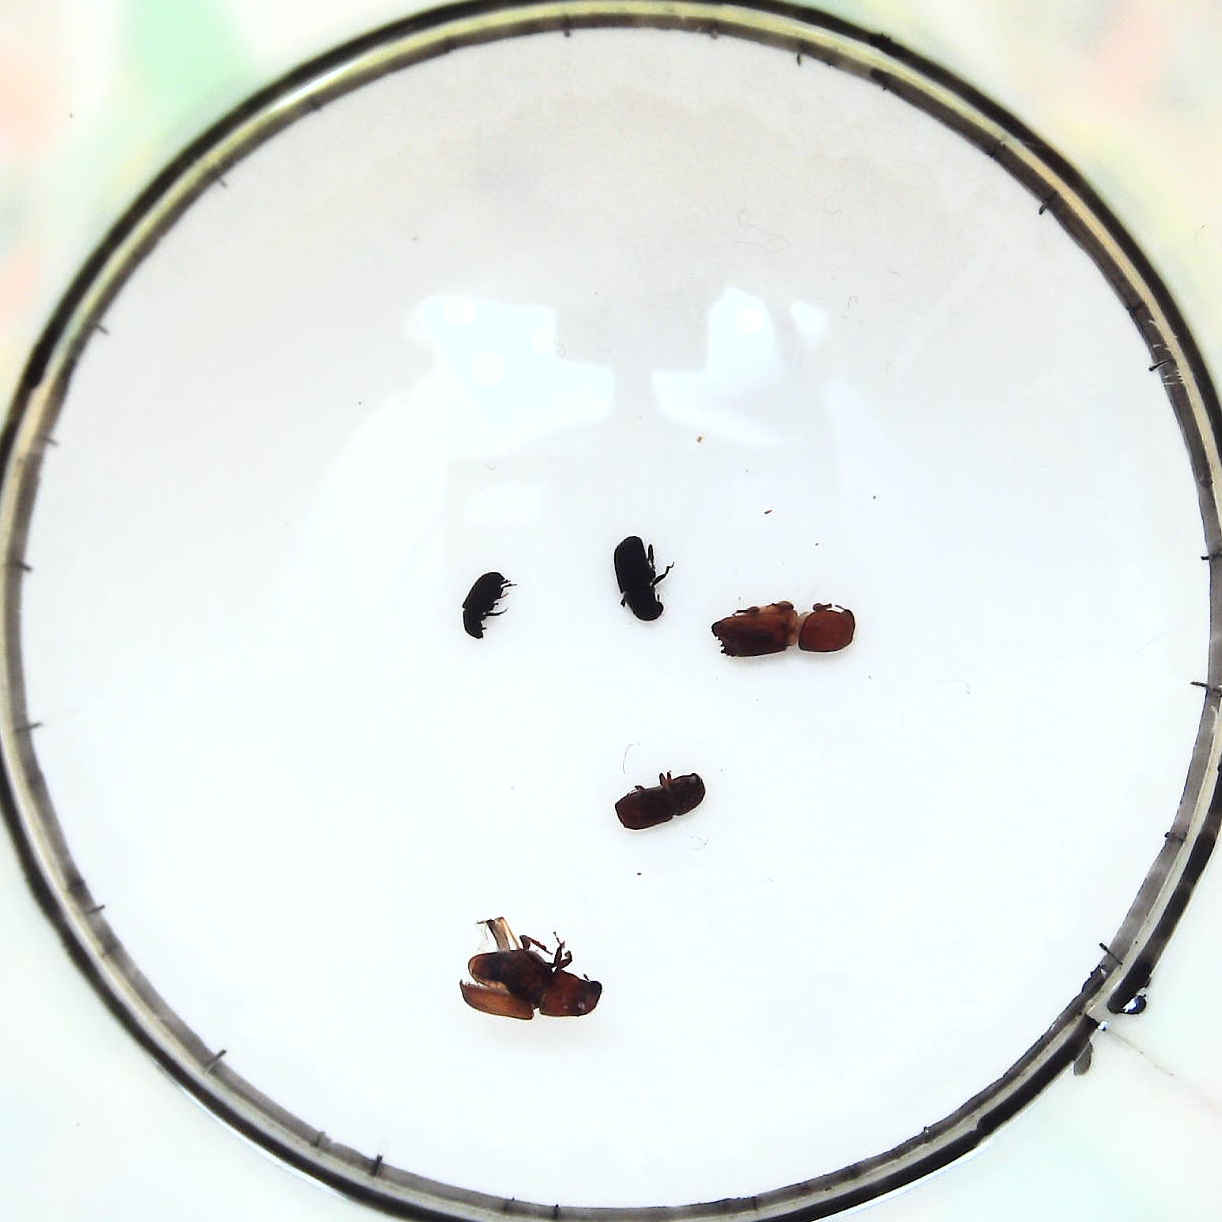Boerner: (703, 598, 859, 657)
Leconte: (459, 911, 603, 1028)
Linnaeus: (608, 767, 708, 833)
armandi: (610, 540, 671, 626)
coleoptera: (459, 572, 510, 637)
